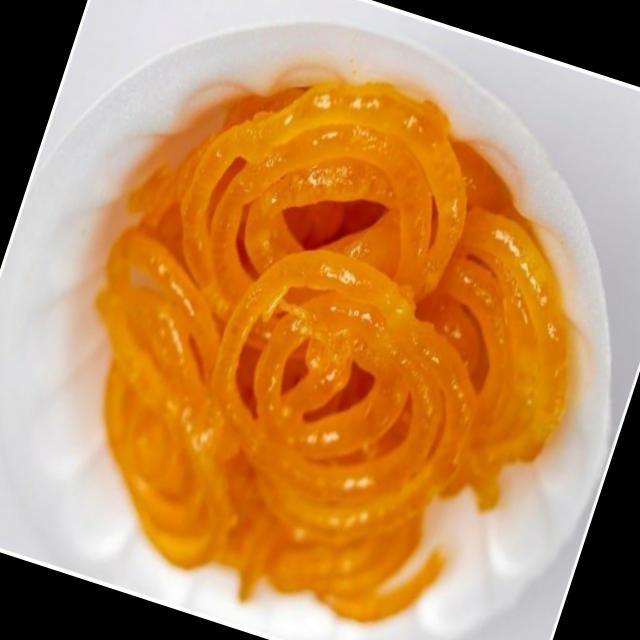jalebi: (30, 51, 637, 640)
